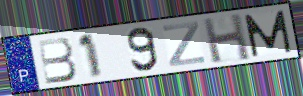1: (77, 32, 105, 79)
9: (126, 26, 161, 73)
B: (36, 36, 80, 86)
H: (200, 12, 253, 65)
M: (242, 8, 295, 59)
Z: (161, 20, 207, 69)
